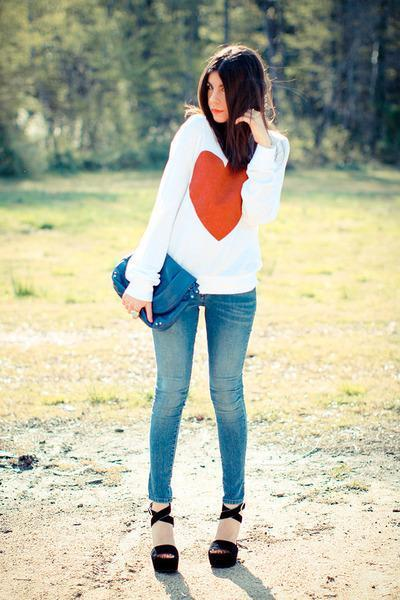bag: (112, 253, 199, 330)
pants: (148, 288, 255, 508)
shirt: (121, 108, 289, 299)
shoe: (151, 503, 247, 574)
